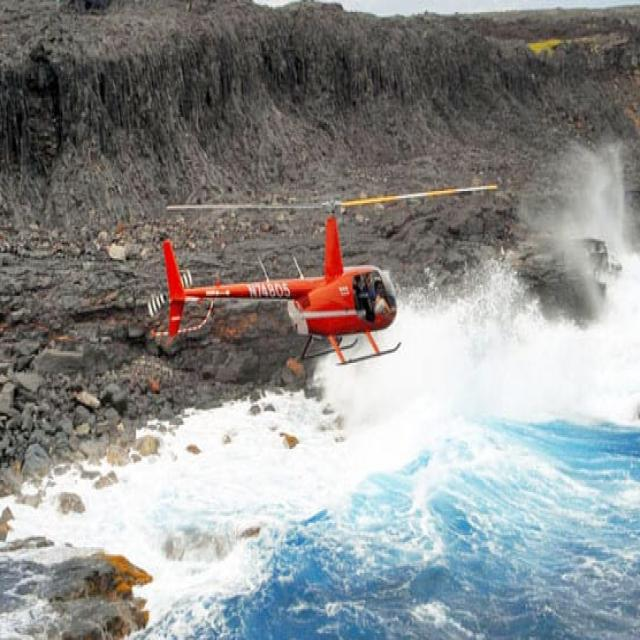helicopter: (159, 185, 498, 368)
